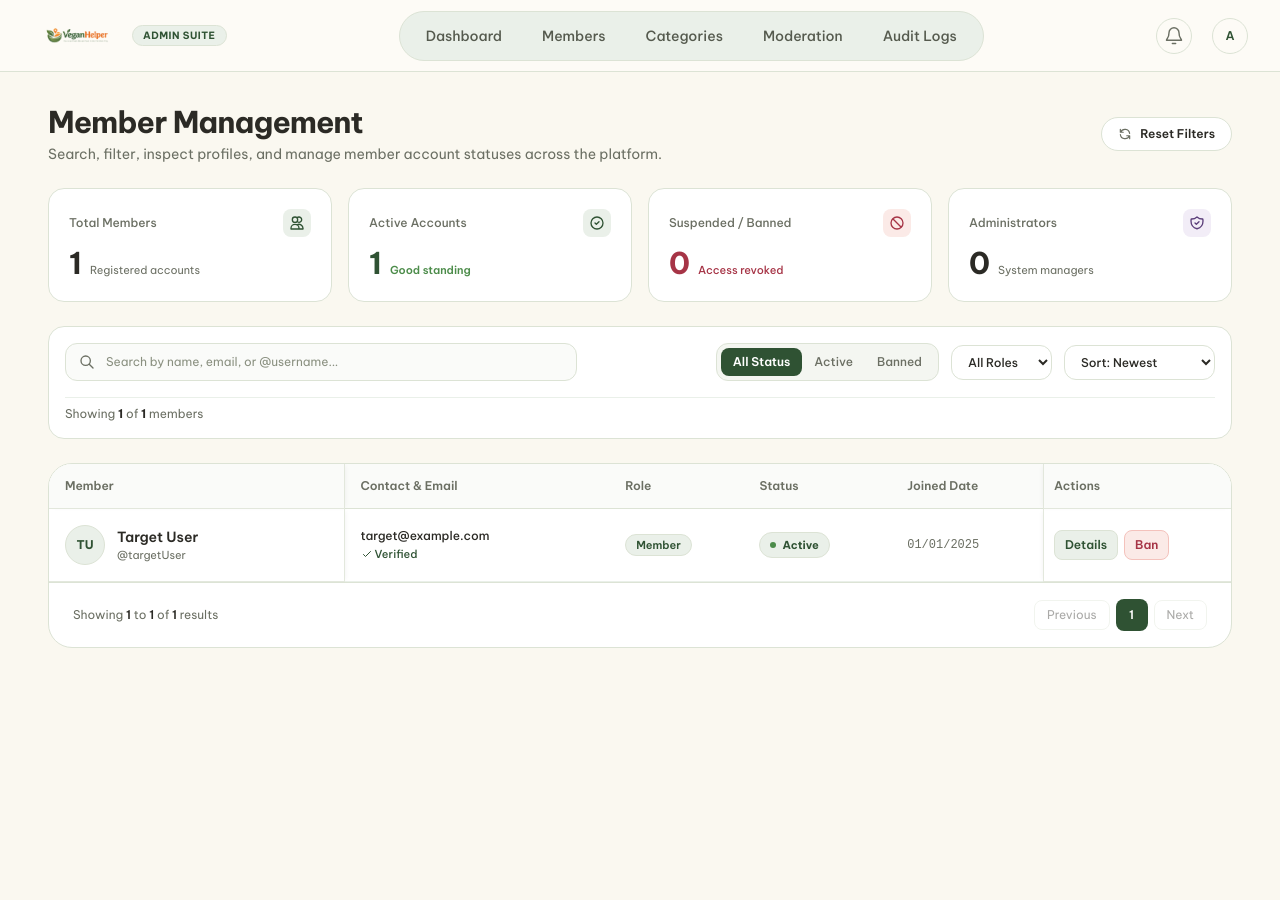
Test: Admin Ban Flow in AdminMemberManagement › opens the ban modal and displays user information and character limit counter
Click the button with test id "open-ban-modal-btn": (1147, 545) [1124,530,1169,560]
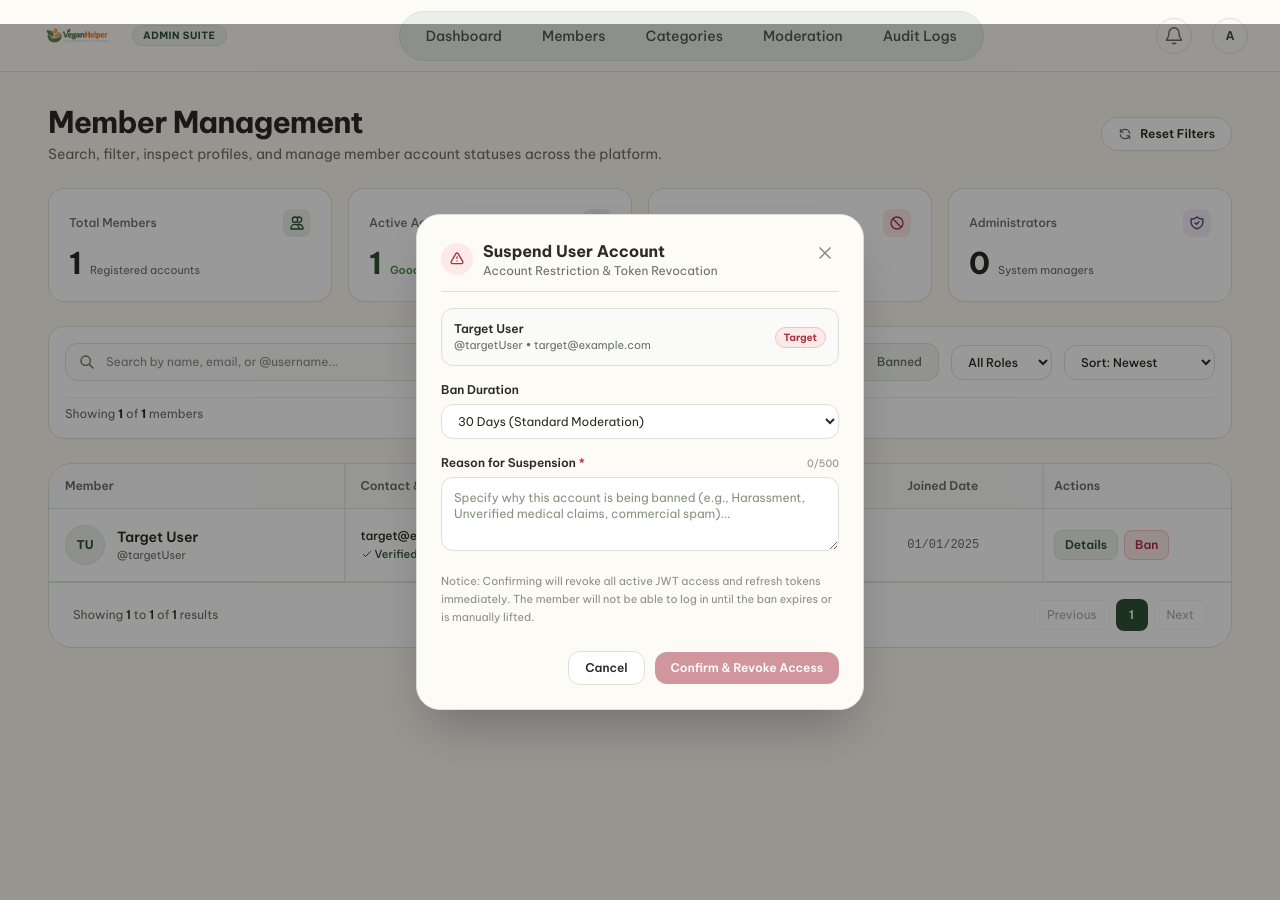
Result: the text "Suspend User Account" is shown at [483,241,665,261]
Result: the text "Reason for Suspension" is shown at [441,455,579,470]
Result: the text "0/500" is shown at [807,456,839,471]
